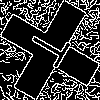T: (25, 25, 80, 74)
